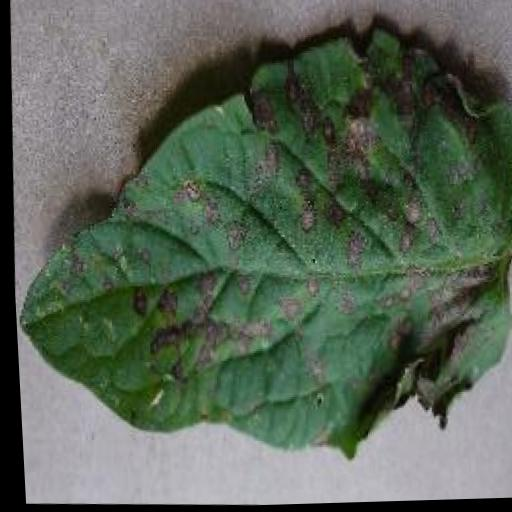Early Blight: (1, 13, 512, 472)
